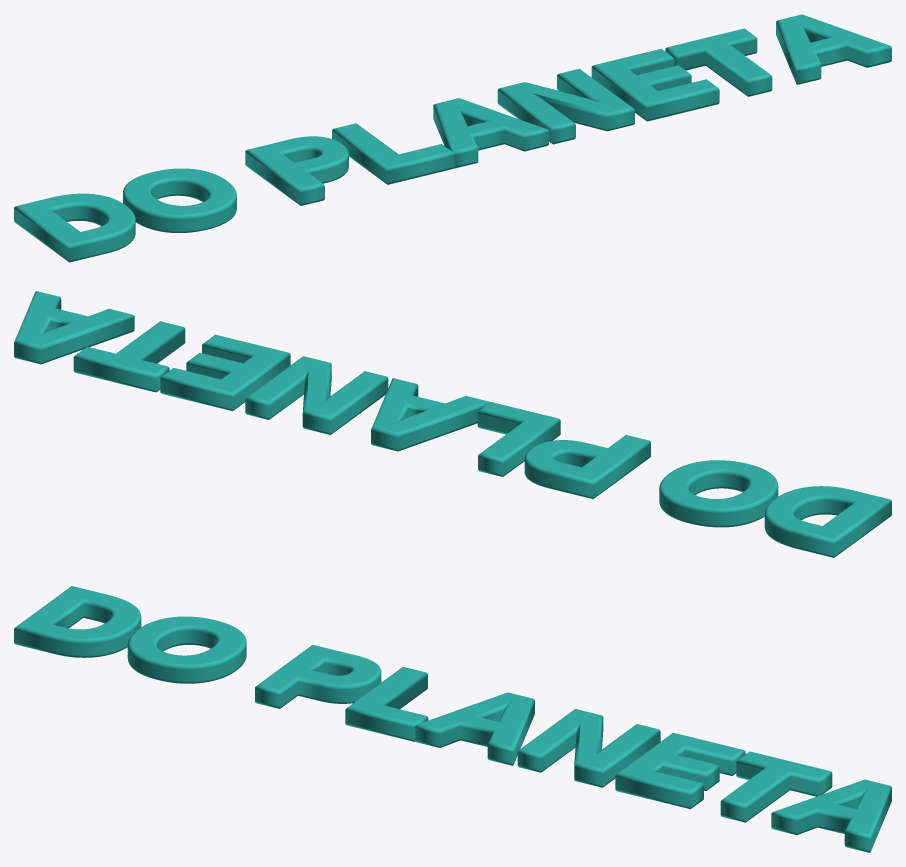
3 views of the same model, one above another, from view 1: azimuth 30°, elevation 25°; view 2: azimuth 150°, elevation 25°; view 3: azimuth 330°, elevation 25° (orthographic). The views are drawn at different scales.
Parts seen in each view (by area): view 1: Text 2; view 2: Text 2; view 3: Text 2.
Part boxes in pixels (box(x1,y1,x2,y2)): Text 2: box(14, 14, 891, 262); Text 2: box(14, 291, 891, 557); Text 2: box(14, 586, 891, 852).
Size of the model in its own units: 5.67 by 0.12 by 0.6746.
